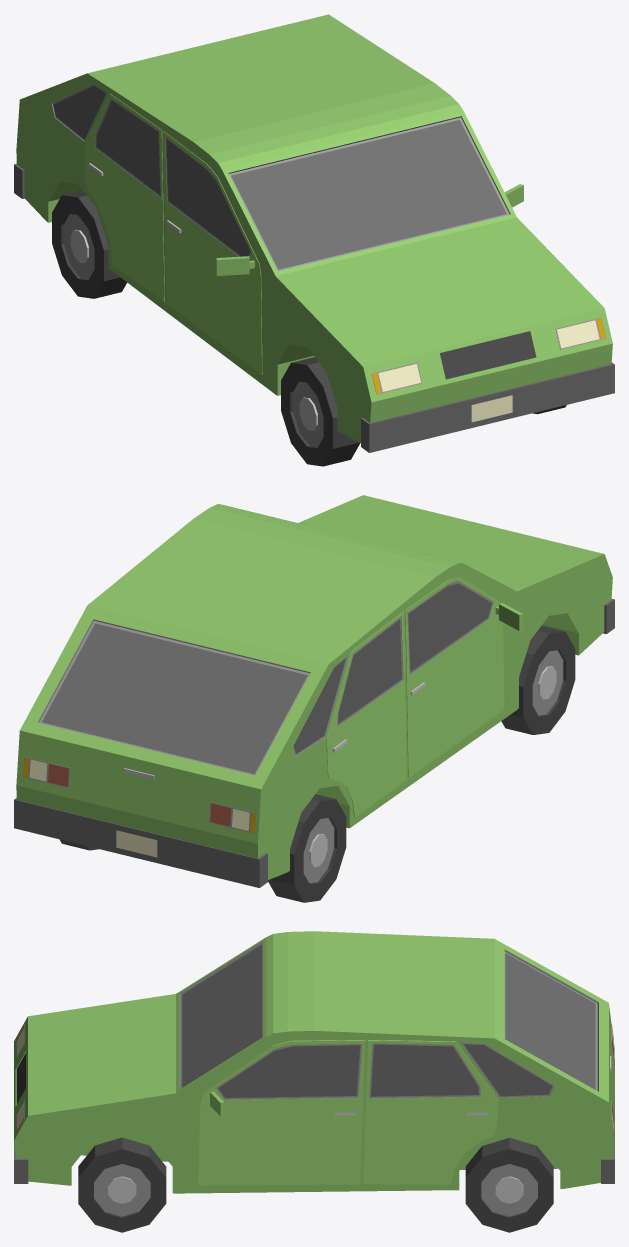
Rendered from foreign car_2.fbx.
The picture shows the model from 3 angles, top to bottom: view 1: azimuth 30°, elevation 25°; view 2: azimuth 150°, elevation 25°; view 3: azimuth 270°, elevation 25°; orthographic projection. The views are drawn at different scales.
Visible parts, largest first — view 1: ege, Cylinder_2_2, Cylinder_2_3; view 2: ege, Cylinder_2_3, Cylinder_2_2; view 3: ege, Cylinder_2_1, Cylinder_2.
Part boxes in pixels (left/top/right/bottom): ege: left=14, top=14, right=614, bottom=452; Cylinder_2_2: left=281, top=357, right=360, bottom=466; Cylinder_2_3: left=52, top=190, right=127, bottom=298; ege: left=14, top=495, right=614, bottom=887; Cylinder_2_3: left=268, top=794, right=346, bottom=902; Cylinder_2_2: left=501, top=625, right=575, bottom=734; ege: left=14, top=931, right=614, bottom=1193; Cylinder_2_1: left=78, top=1137, right=166, bottom=1232; Cylinder_2: left=465, top=1138, right=553, bottom=1232.
Bounding box in the file's own units: 169 × 126 × 339.
